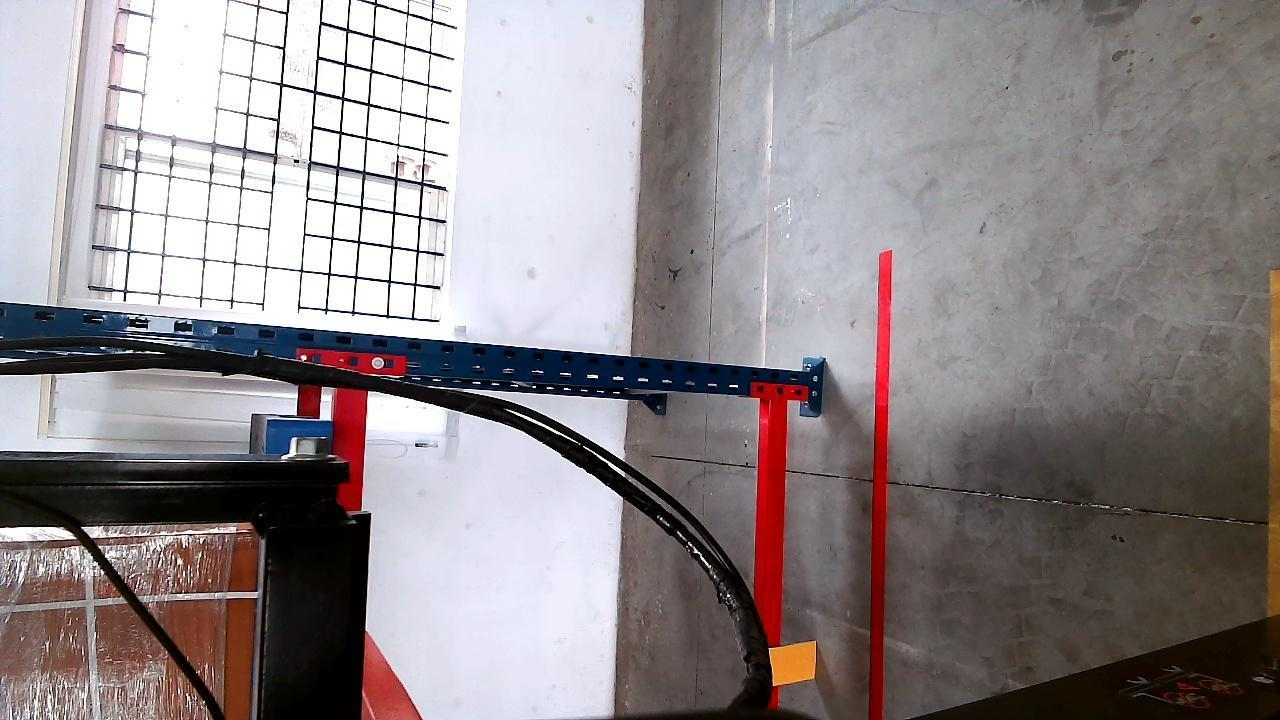h_rack: (757, 385, 785, 694)
orange_strip: (771, 640, 819, 686)
red_line: (868, 253, 894, 720)
yellow_line: (1268, 265, 1280, 616)
